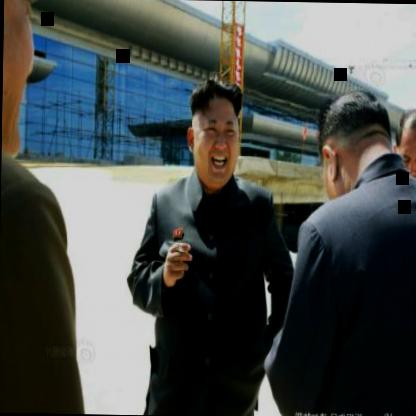head: (313, 84, 398, 200), (186, 74, 247, 190), (395, 105, 416, 179)
